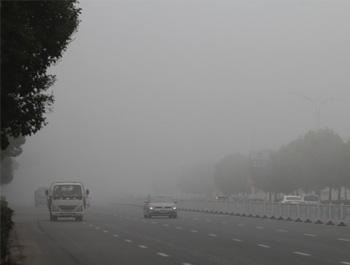bus: (44, 180, 90, 222)
car: (142, 195, 180, 219), (281, 195, 304, 211), (300, 194, 321, 211)
